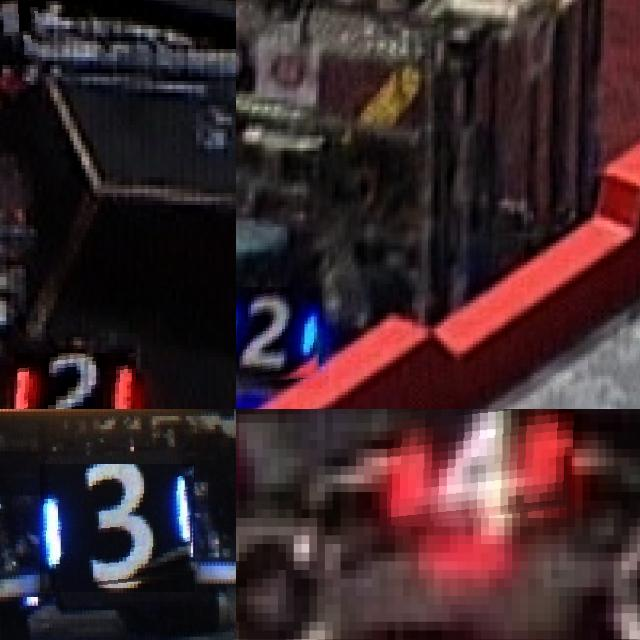B2: (236, 287, 322, 388)
B3: (40, 464, 195, 592)
R1: (0, 1, 37, 65)
R2: (14, 353, 136, 409)
R4: (387, 409, 574, 526)
